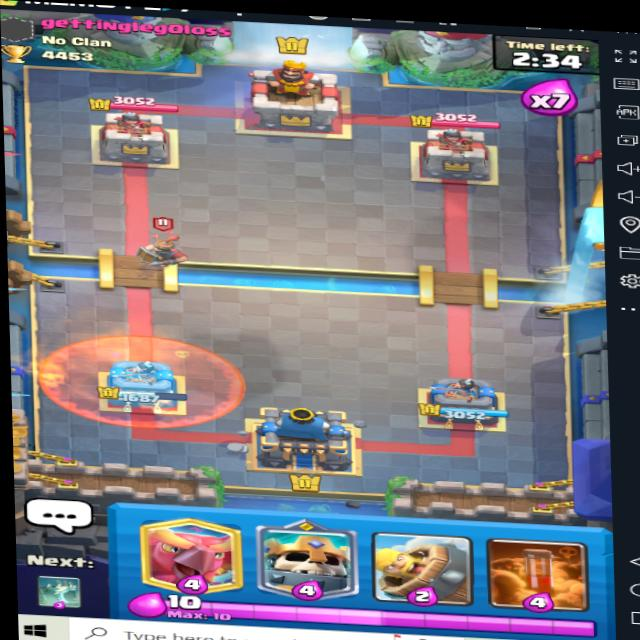poison: (38, 324, 248, 434)
royal-recruits: (131, 217, 189, 275)
